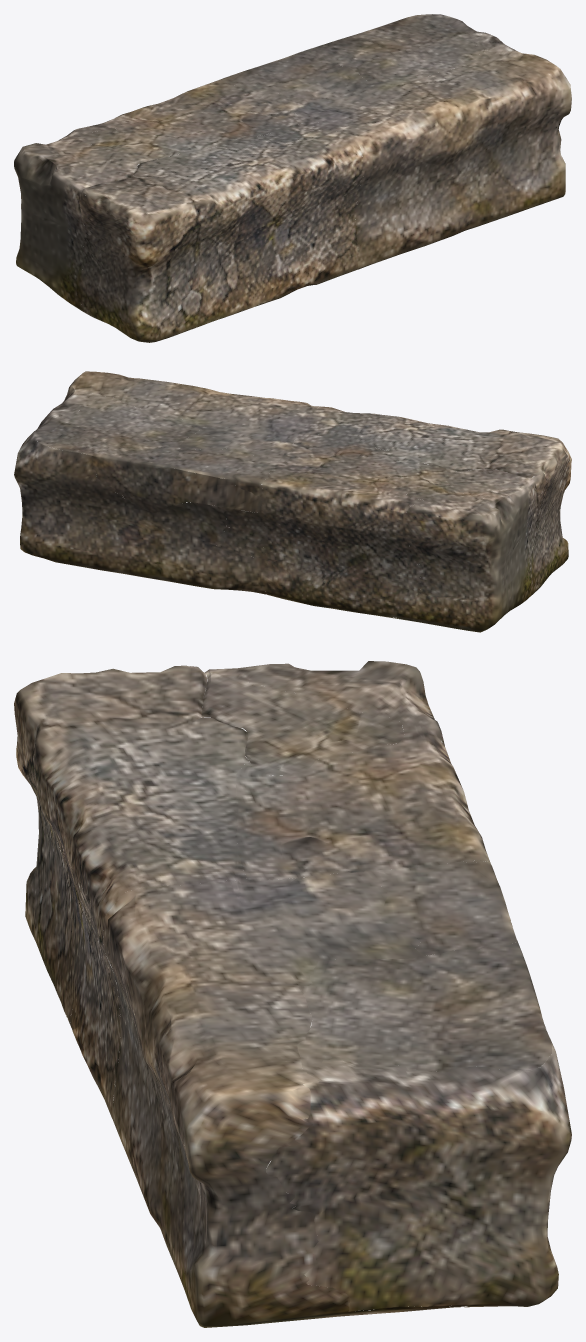
Rendered from piece_05_4966tris.glb.
3 views of the same model, one above another, from view 1: azimuth 30°, elevation 25°; view 2: azimuth 150°, elevation 25°; view 3: azimuth 270°, elevation 25° (orthographic). The views are drawn at different scales.
Visible parts, largest first — view 1: Eldoria_MultiPiece_Group_05; view 2: Eldoria_MultiPiece_Group_05; view 3: Eldoria_MultiPiece_Group_05.
Part boxes in pixels (<box>): Eldoria_MultiPiece_Group_05: <box>14,14,571,342</box>; Eldoria_MultiPiece_Group_05: <box>14,371,571,632</box>; Eldoria_MultiPiece_Group_05: <box>14,661,571,1327</box>.
Size of the model in its own units: 0.3309 by 0.0825 by 0.1745.
1 material, 1 textured.
